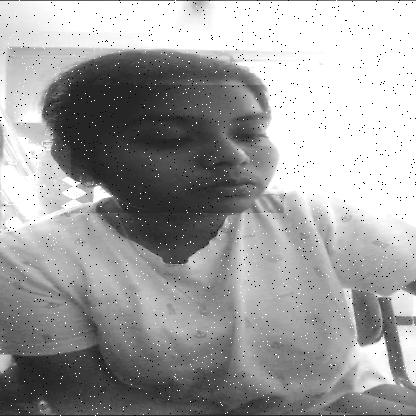Distracted: (71, 85, 284, 213)
